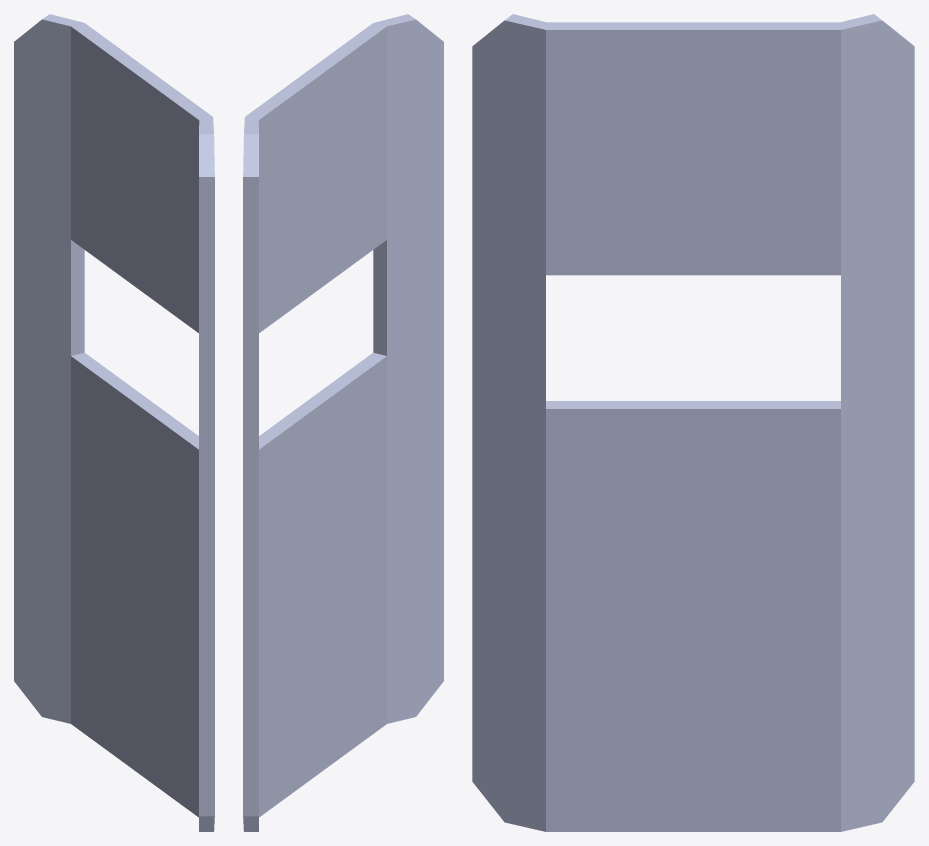
Rendered from Riot Shield.FBX.
3 views of the same model, side by side, from view 1: azimuth 30°, elevation 25°; view 2: azimuth 150°, elevation 25°; view 3: azimuth 270°, elevation 25° (orthographic). The views are drawn at different scales.
Visible parts, largest first — view 1: Riot_Shield; view 2: Riot_Shield; view 3: Riot_Shield.
Part boxes in pixels (bbox=[...]): Riot_Shield: bbox=[14, 14, 214, 831]; Riot_Shield: bbox=[243, 14, 443, 831]; Riot_Shield: bbox=[472, 14, 914, 831].
Size of the model in its own units: 3.06 by 48 by 24.
